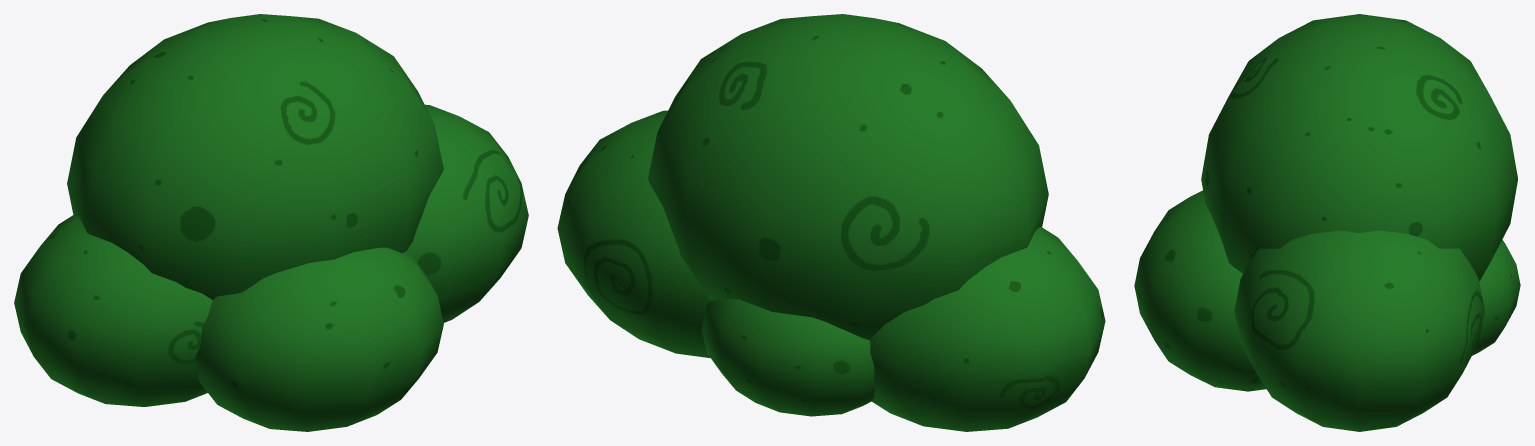
The model's file is Bush2.fbx.
3 renders of one model, left to right at view 1: azimuth 30°, elevation 25°; view 2: azimuth 150°, elevation 25°; view 3: azimuth 270°, elevation 25°, orthographic. The views are drawn at different scales.
Parts seen in each view (by area): view 1: Sphere.013; view 2: Sphere.013; view 3: Sphere.013.
Part boxes in pixels (x1,y1,x2,y2): Sphere.013: (14,14,528,431); Sphere.013: (557,14,1105,431); Sphere.013: (1134,14,1520,431).
Bounding box in the file's own units: 182 × 124 × 128.
1 material, 1 textured.
